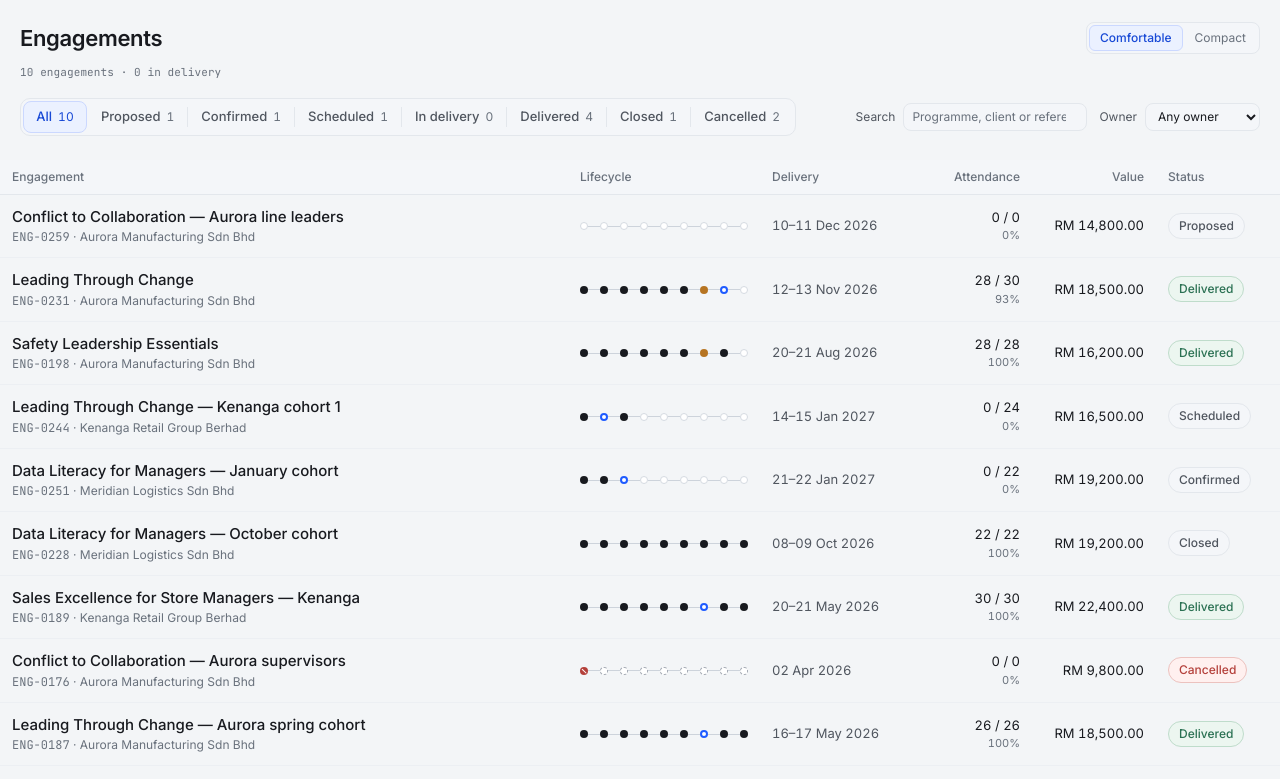
Test: M09 · engagements list › narrows on a free-text search and empties honestly
This screenshot has width=1280, height=779.
Expected: the text "Leading Through Change" is shown, [12,270,194,289]
Type "no such programme" into the search field labelled "Search" at {"x": 995, "y": 116}, box [903,102,1087,130]
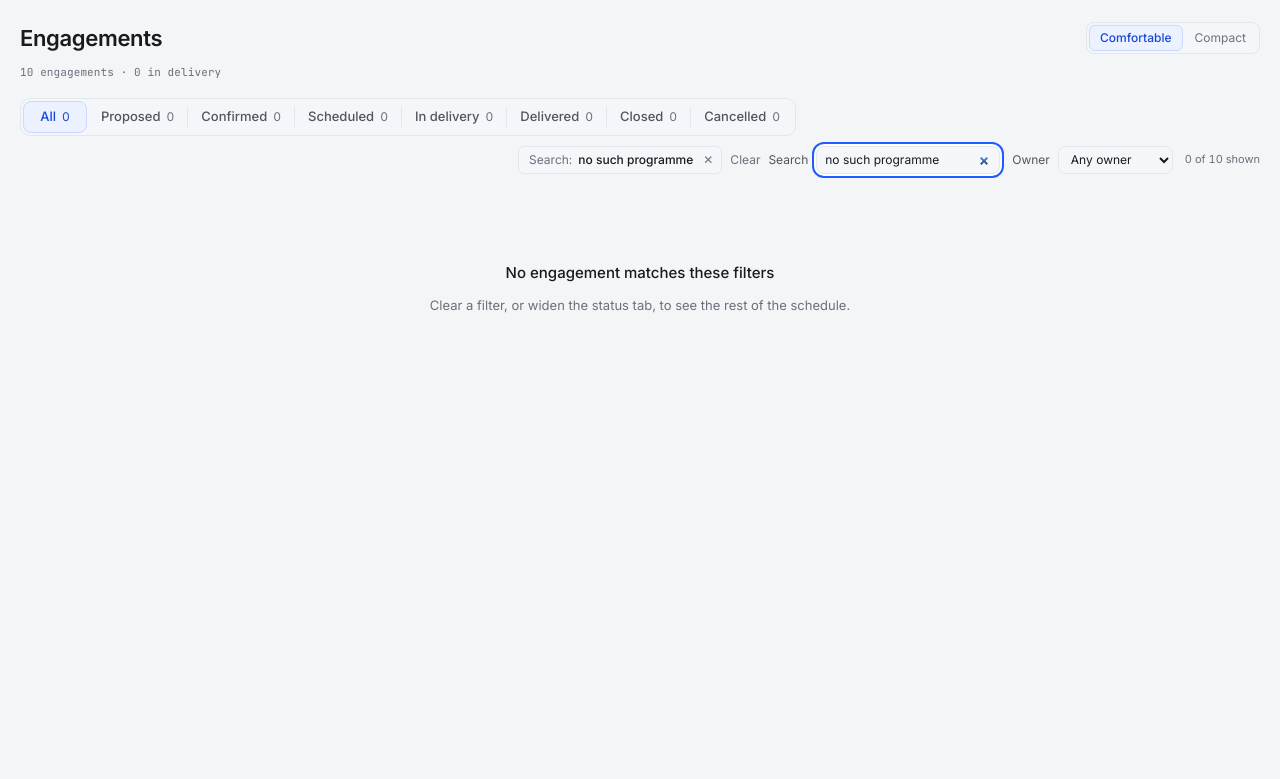
Now the text "No engagement matches these filters" is shown, box [506,262,774,284]
Now the text "Search:" is shown, box [529,150,572,168]
